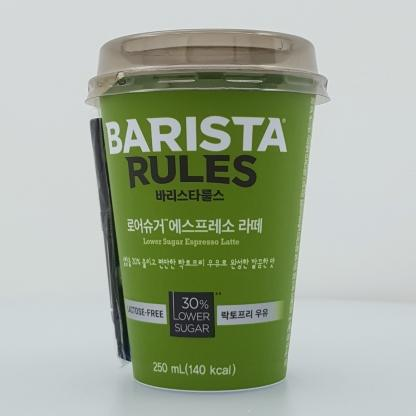-------------------: (84, 27, 330, 392)
